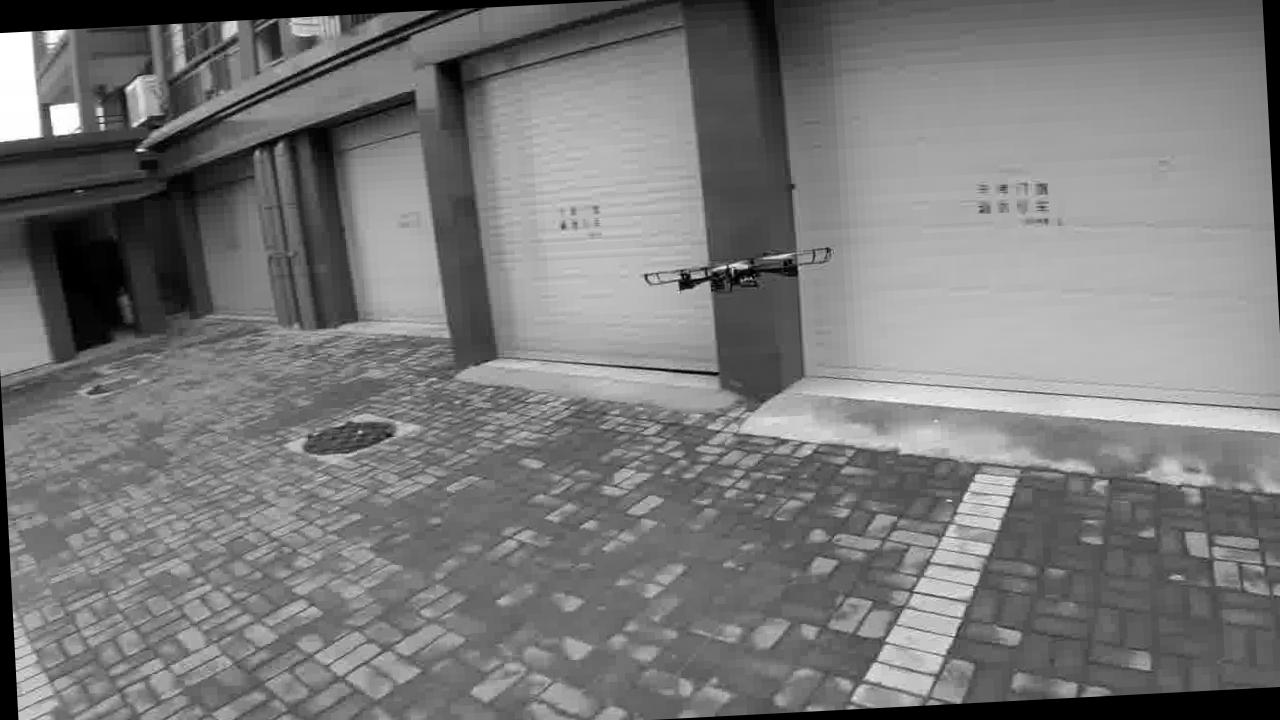drone: (604, 224, 842, 332)
